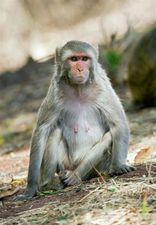monkey: (22, 27, 140, 195)
